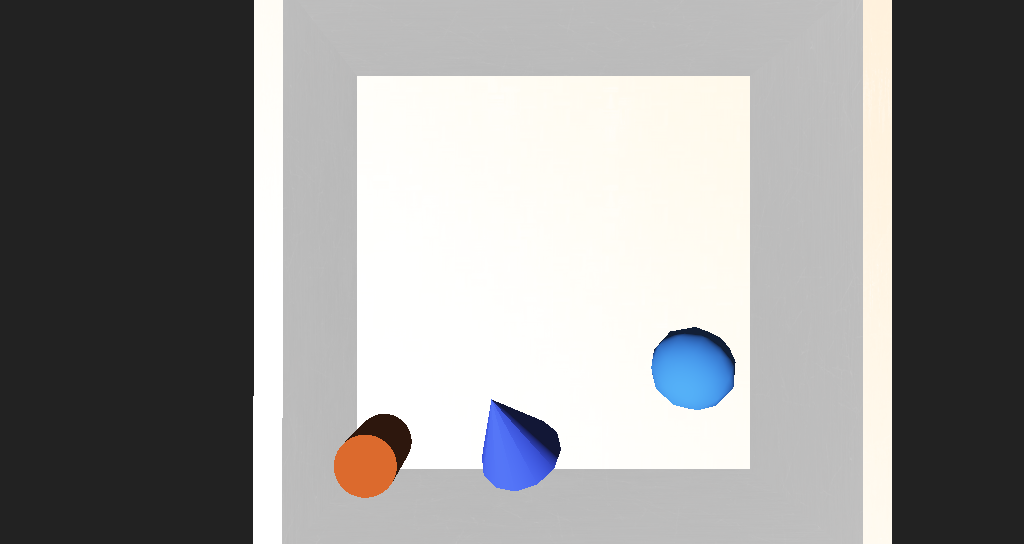cone: (340, 346, 401, 389)
cylinder: (411, 310, 519, 396)
sphere: (583, 296, 643, 344)
